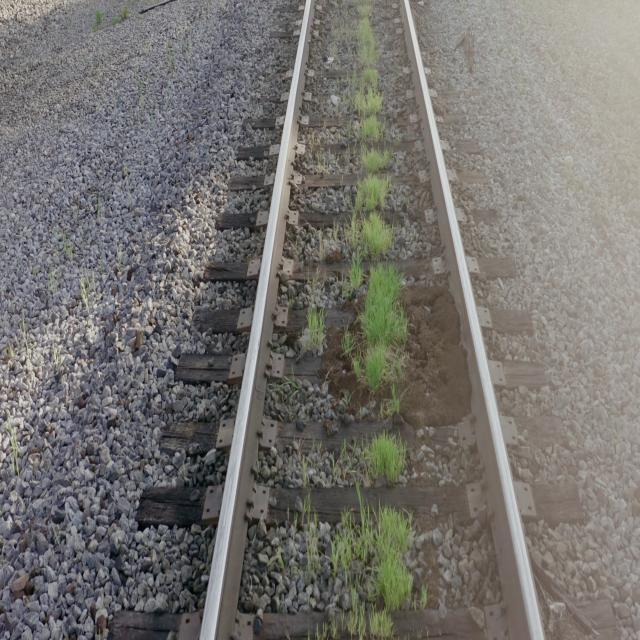Plant: (340, 11, 409, 393), (330, 507, 411, 638), (362, 431, 405, 484), (376, 551, 412, 611), (345, 256, 364, 296), (306, 311, 325, 344)
